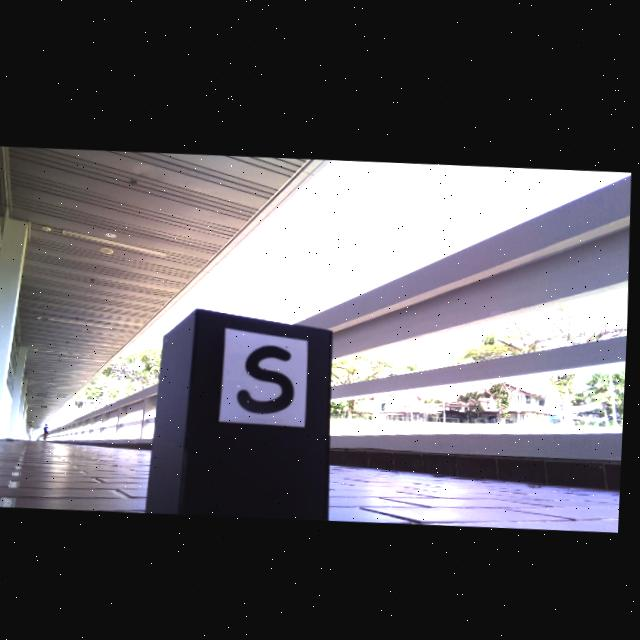S: (239, 342, 297, 411)
